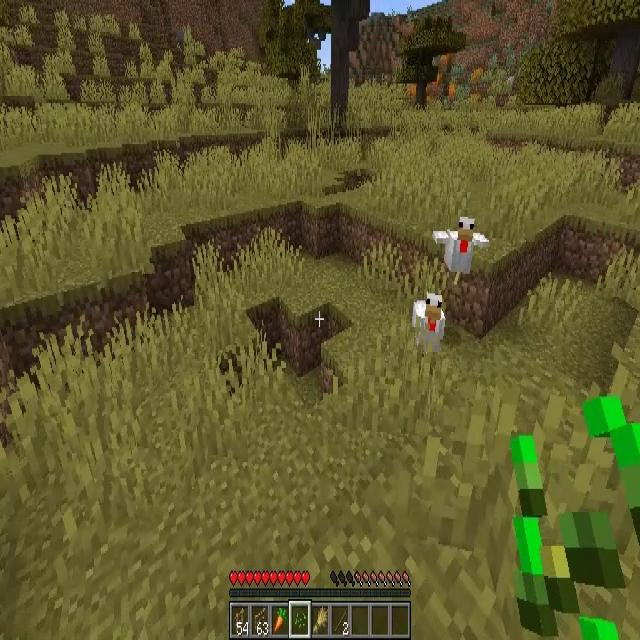duck: (432, 216, 488, 284), (411, 292, 446, 357)
